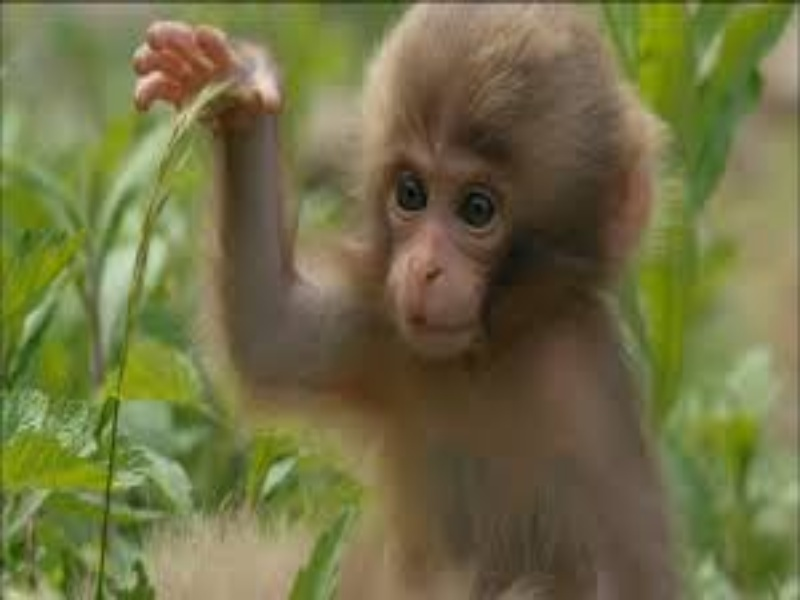monkey: (123, 4, 726, 594)
